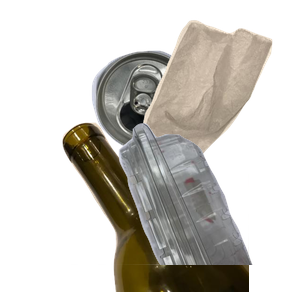glass: (60, 120, 300, 300)
metal: (89, 48, 276, 192)
plastic: (71, 120, 300, 300)
trash: (132, 17, 300, 177)
